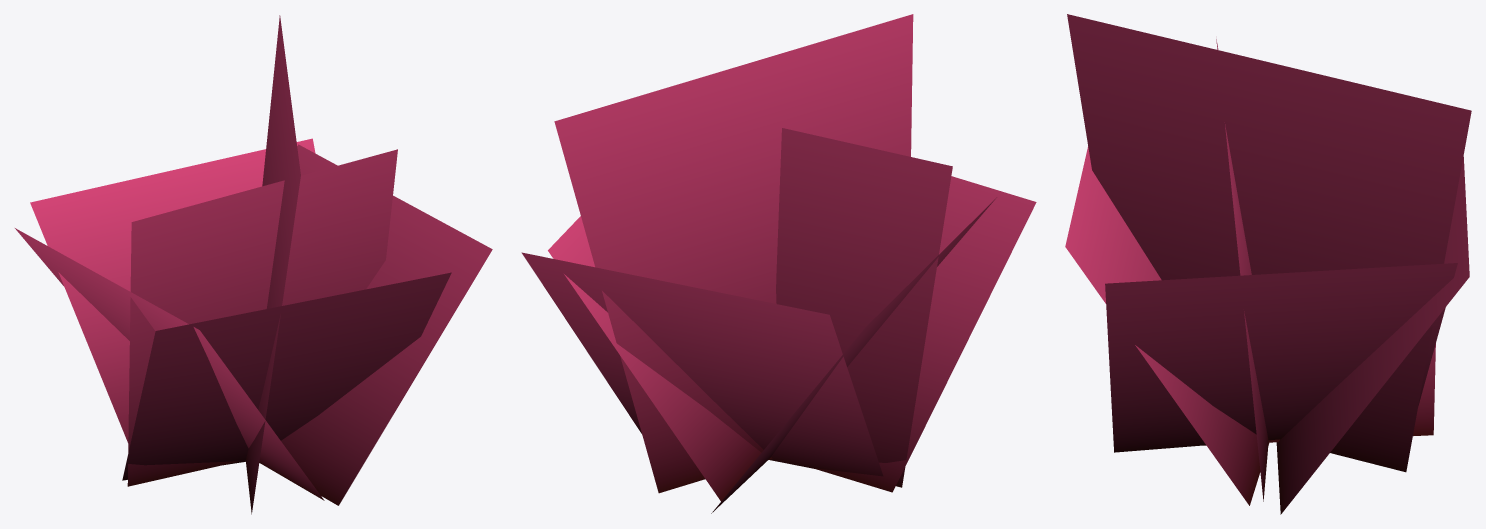
Rendered from bushHid_03.fbx.
3 renders of one model, left to right at view 1: azimuth 30°, elevation 25°; view 2: azimuth 150°, elevation 25°; view 3: azimuth 270°, elevation 25°, orthographic. The views are drawn at different scales.
Visible parts, largest first — view 1: bushHid_03_LOD0; view 2: bushHid_03_LOD0; view 3: bushHid_03_LOD0.
Part boxes in pixels (x1=…): bushHid_03_LOD0: x1=15, y1=15, x2=492, y2=514; bushHid_03_LOD0: x1=521, y1=14, x2=1036, y2=513; bushHid_03_LOD0: x1=1065, y1=14, x2=1471, y2=514.
Size of what is drawn, in the model's own units: 2.55 by 2.63 by 2.35.
